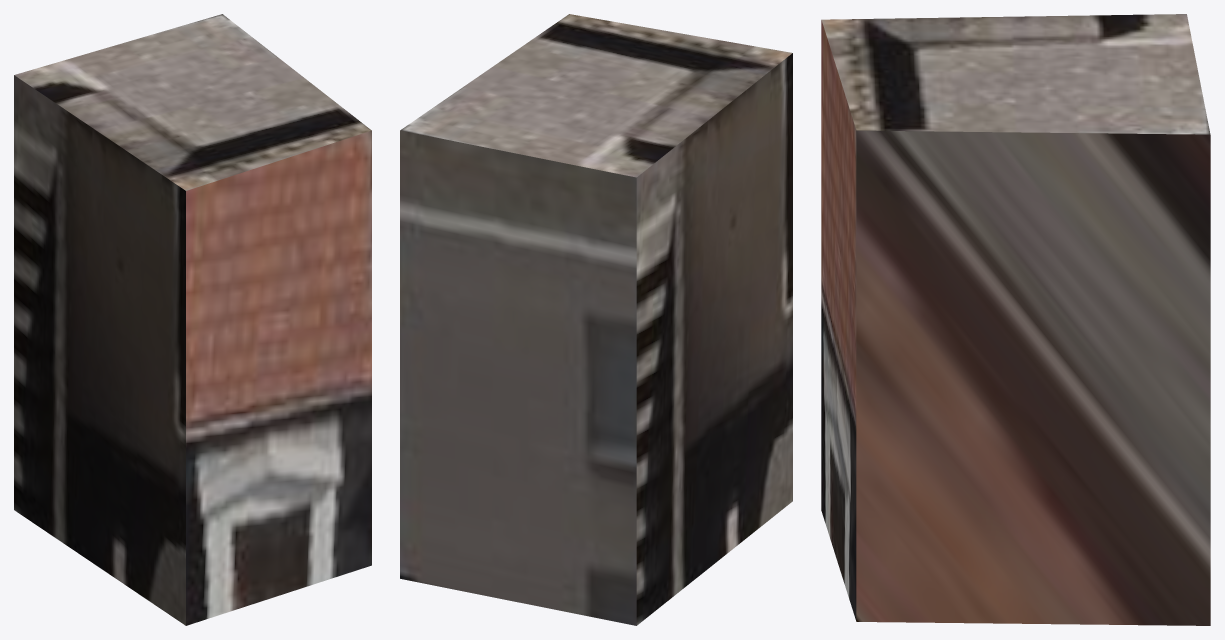
3 views of the same model, side by side, from view 1: azimuth 30°, elevation 25°; view 2: azimuth 150°, elevation 25°; view 3: azimuth 270°, elevation 25° (orthographic). The views are drawn at different scales.
Parts seen in each view (by area): view 1: Z_UP; view 2: Z_UP; view 3: Z_UP.
Part boxes in pixels (x1,y1,x2,y2): Z_UP: [14, 14, 371, 625]; Z_UP: [400, 14, 792, 625]; Z_UP: [821, 14, 1210, 625].
Bounding box in the file's own units: 2.67 × 5.07 × 3.63.
2 materials, 1 textured.
